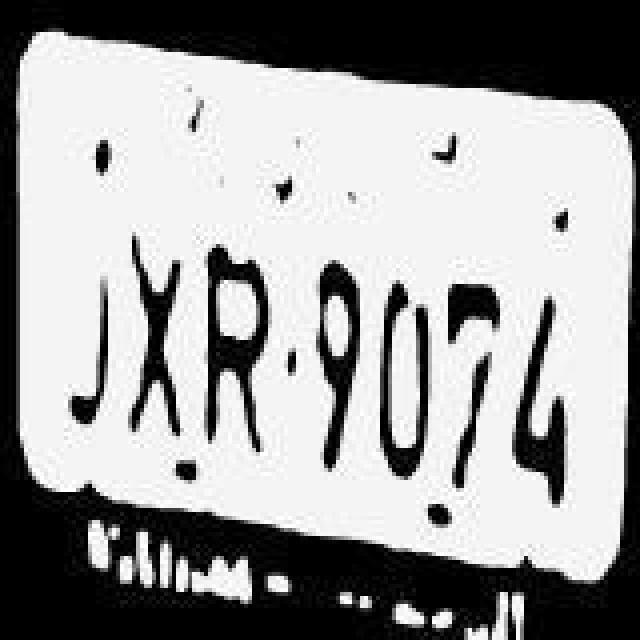4: (508, 284, 580, 516)
7: (438, 254, 506, 498)
9: (314, 250, 382, 486)
J: (58, 232, 118, 472)
O: (378, 264, 438, 488)
R: (198, 230, 282, 474)
X: (120, 222, 200, 450)
